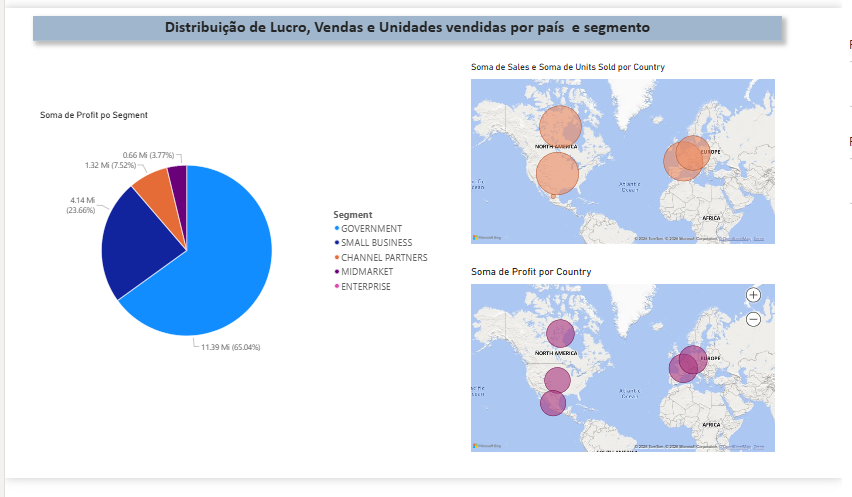

The dashboard page shown, as its layout file describes it:
{"tool":"powerbi","page":{"name":"Página 3","canvas":[1920,1080],"ordinal":2},"visuals":[{"type":"textbox","box":[10,0,280,280],"z":0},{"type":"textbox","box":[64.2,18.4,1718.1,57.3],"z":1000},{"type":"map","fields":{"Category":["financials.Country"],"Size":["Sum(financials.Sales)"]},"box":[1052.9,110.1,730.1,447.2],"z":2000},{"type":"map","title":"Soma de Profit por Country","fields":{"Category":["financials.Country"],"Size":["Sum(financials.Profit)"]},"box":[1053.5,578.5,730.1,457.3],"z":3000},{"type":"pieChart","title":"Soma de Profit po Segment","fields":{"Category":["financials.Segment"],"Y":["Sum(financials.Profit)"]},"box":[64.2,220.2,931.3,635.4],"z":3001}]}

Visuals, with their boxes on the page's 1920x1080 design canvas (x1, y1, x2, y2). These are canvas units, not pixel positions in the 852x497 screenshot, which may show the page scaled, cropped or inside an application window:
textbox: Rect(10, 0, 290, 280)
textbox: Rect(64, 18, 1782, 76)
map - financials.Country x Sum(financials.Sales): Rect(1053, 110, 1783, 557)
"Soma de Profit por Country" map: Rect(1054, 578, 1784, 1036)
"Soma de Profit po Segment" pieChart: Rect(64, 220, 996, 856)
